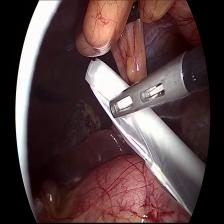Grasper: (110, 57, 188, 120)
Specimen Bag: (85, 59, 203, 215)
